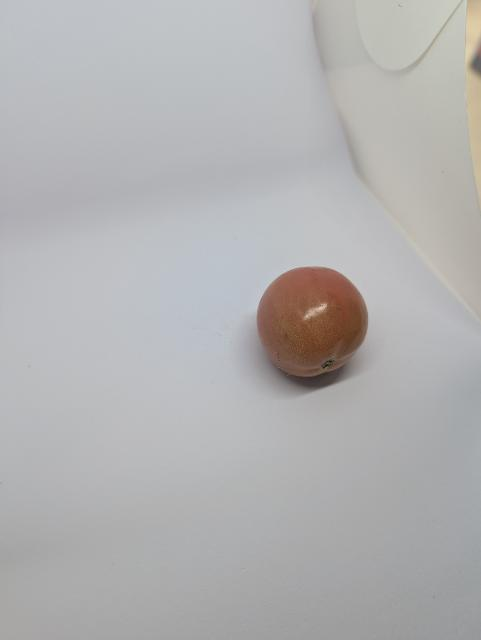turning: (251, 260, 381, 385)
